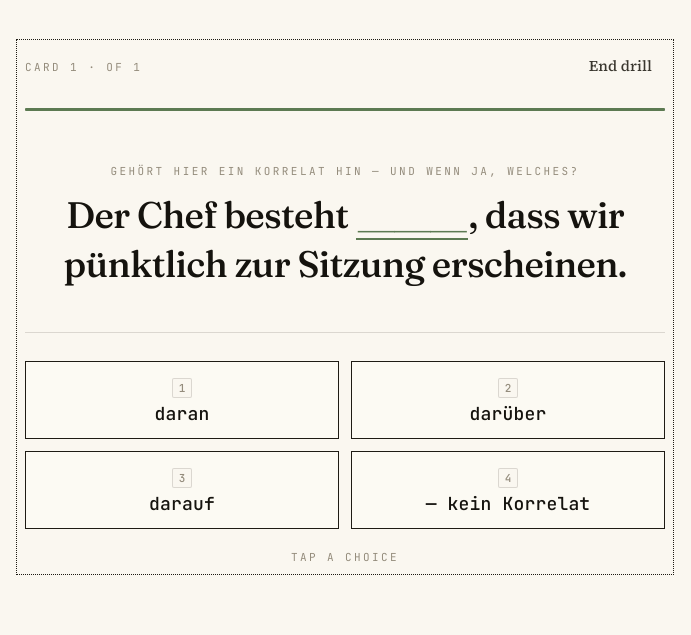
KorrelatRunner — smoke tests › shows wrong feedback when KEIN_KORRELAT is picked for an obligatory item
Click the button with class "choice" showing "4 — kein Korrelat" at {"x": 508, "y": 490}, box [351,451,665,529]
(page scrolled)
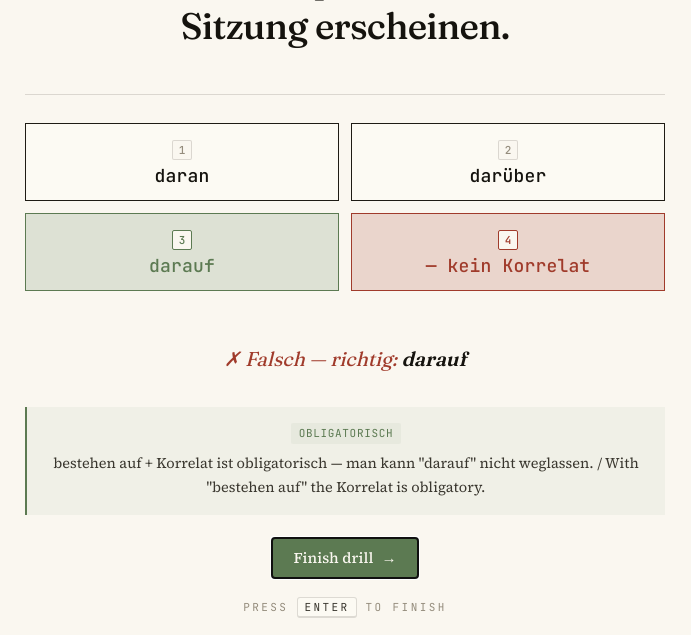
Check: the element with class "wrong" showing "✗ Falsch — richtig: darauf" is shown, box [224,343,466,375]
